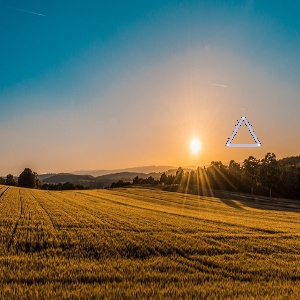triangle: (224, 115, 262, 150)
